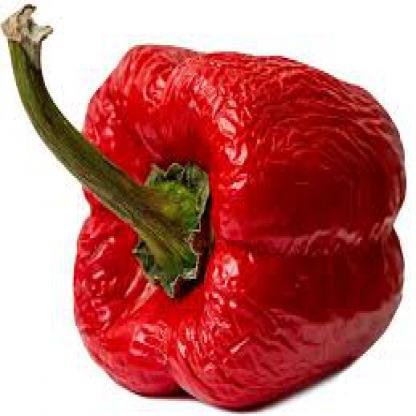capsicum_rotten: (1, 6, 406, 394)
